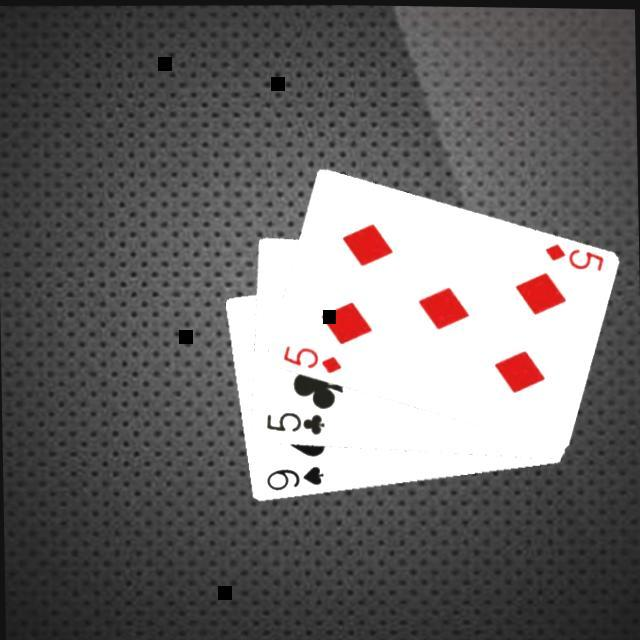5C: (261, 406, 325, 437)
5D: (539, 236, 606, 272), (278, 339, 342, 375)
9S: (260, 461, 326, 493)
